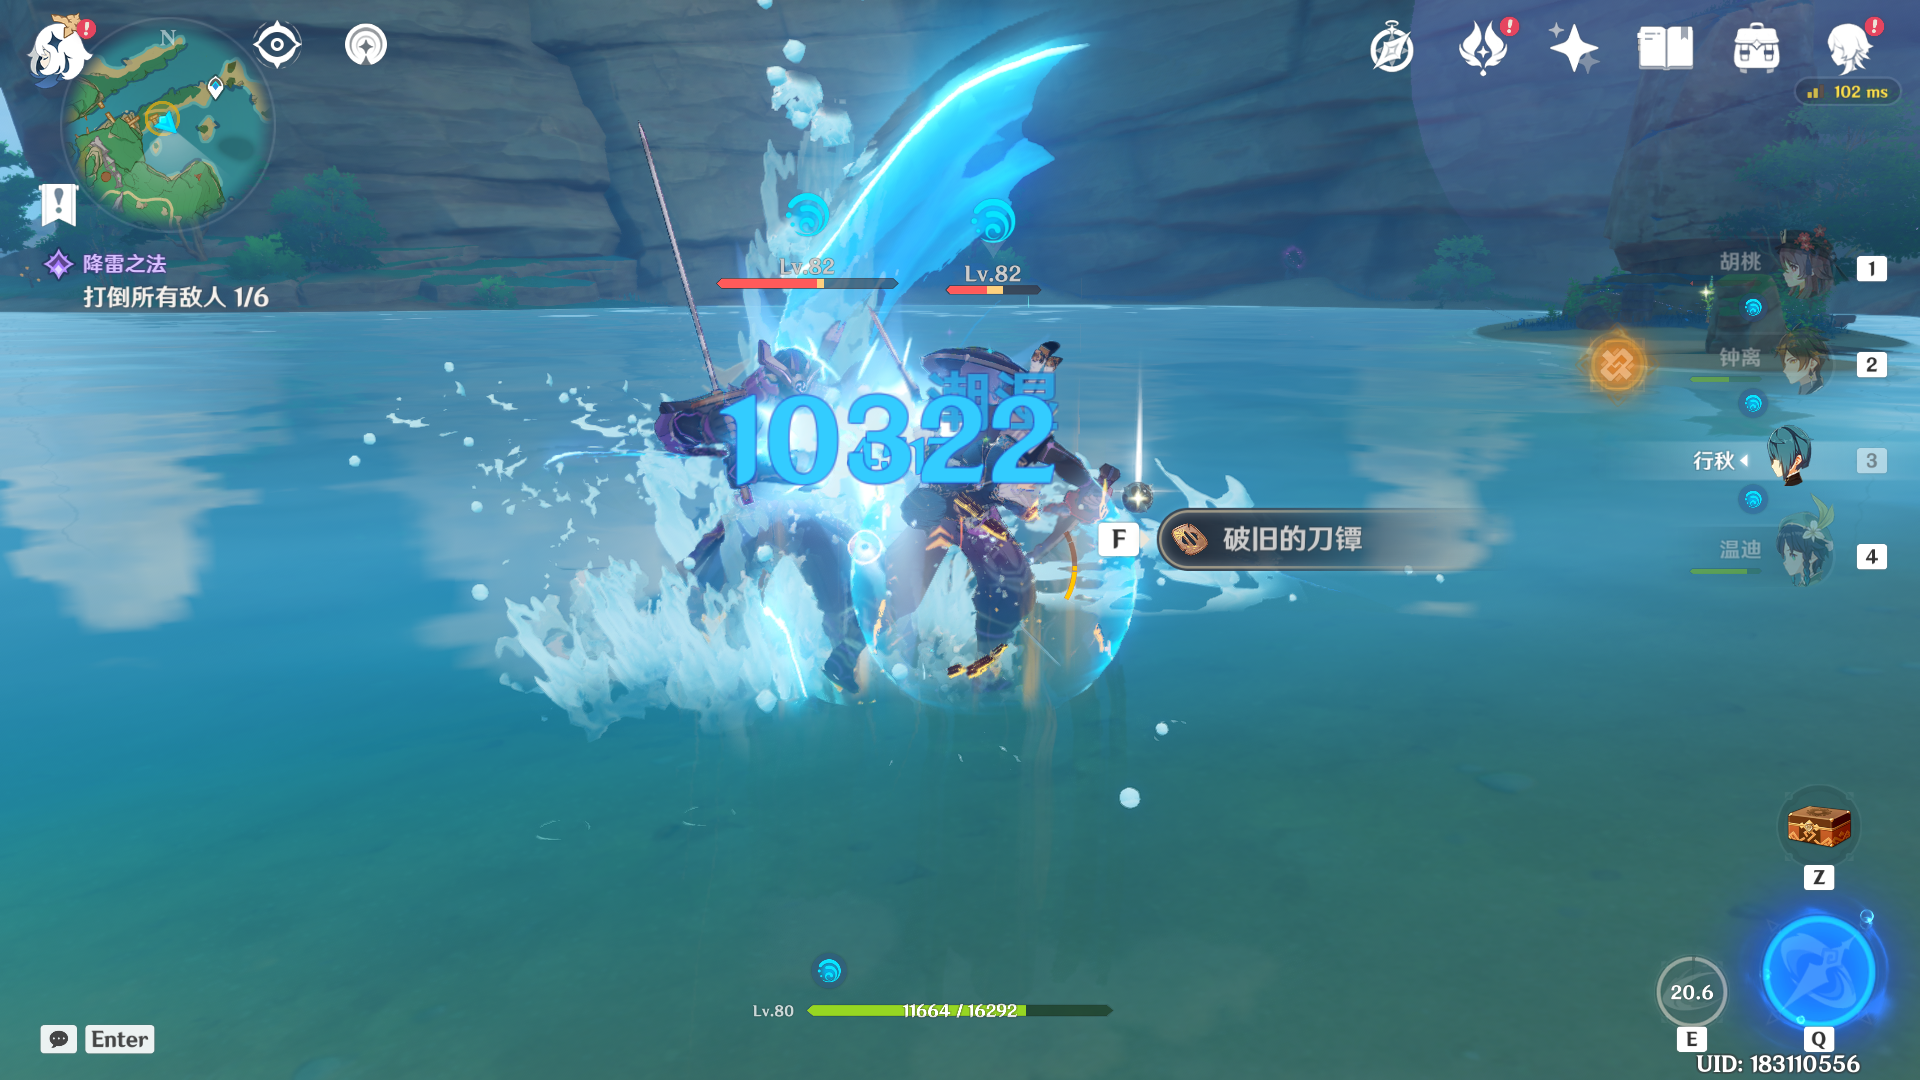samurai: (601, 291, 893, 753)
